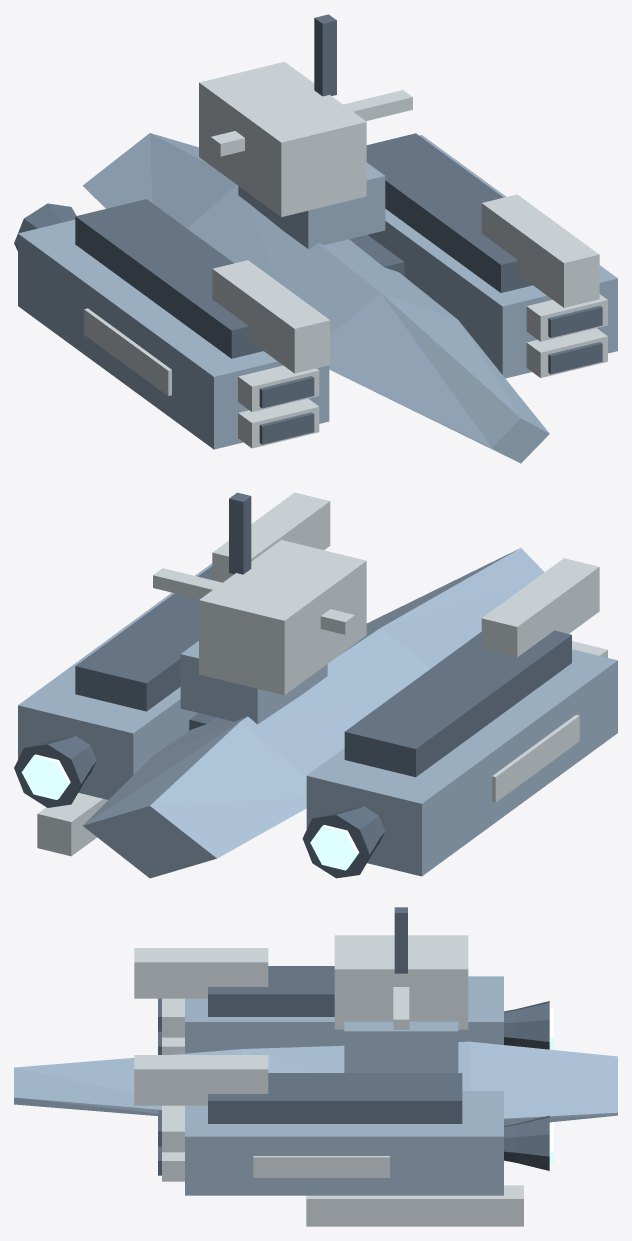
3 renders of one model, top to bottom at view 1: azimuth 30°, elevation 25°; view 2: azimuth 150°, elevation 25°; view 3: azimuth 270°, elevation 25°, orthographic. The views are drawn at different scales.
Bounding box in the file's own units: 11.56 × 8.77 × 18.05.
